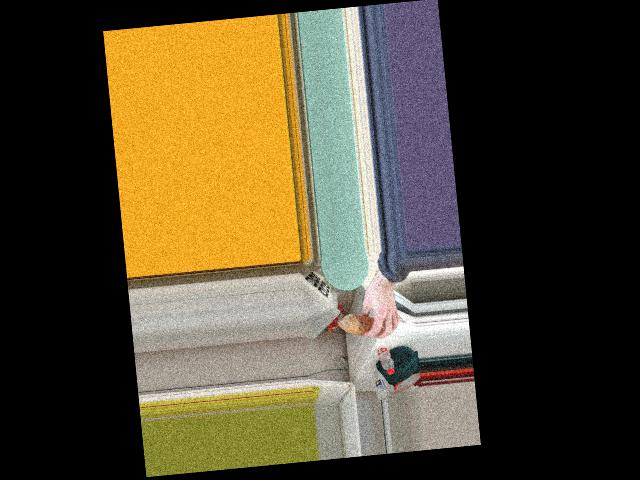sweet_potato: (339, 311, 389, 337)
